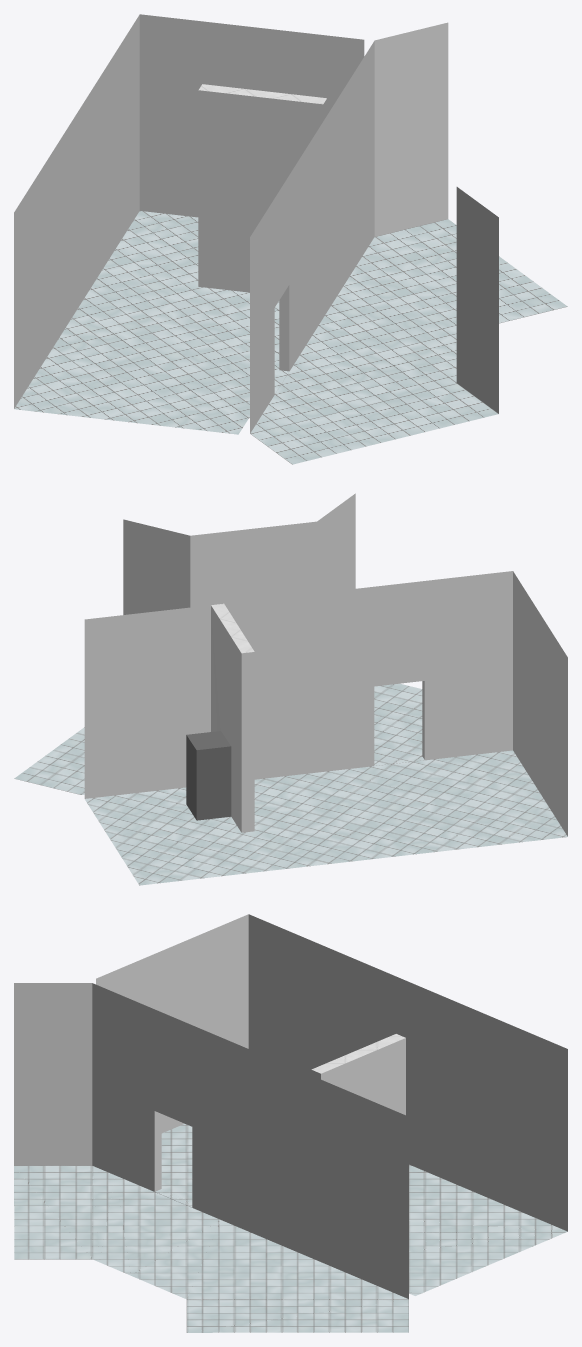
The model's file is rz_cont2c_178_v2.glb.
3 renders of one model, top to bottom at view 1: azimuth 30°, elevation 25°; view 2: azimuth 150°, elevation 25°; view 3: azimuth 270°, elevation 25°, orthographic. The views are drawn at different scales.
Visible parts, largest first — view 1: Cube; view 2: Cube; view 3: Cube.
Boxes of the visible parts, x1=… form: Cube: x1=14, y1=14, x2=567, y2=464; Cube: x1=14, y1=493, x2=567, y2=885; Cube: x1=14, y1=914, x2=567, y2=1332.
Size of the model in its own units: 20.12 by 7.26 by 19.96.
Materials: 4 (2 with a texture image).
